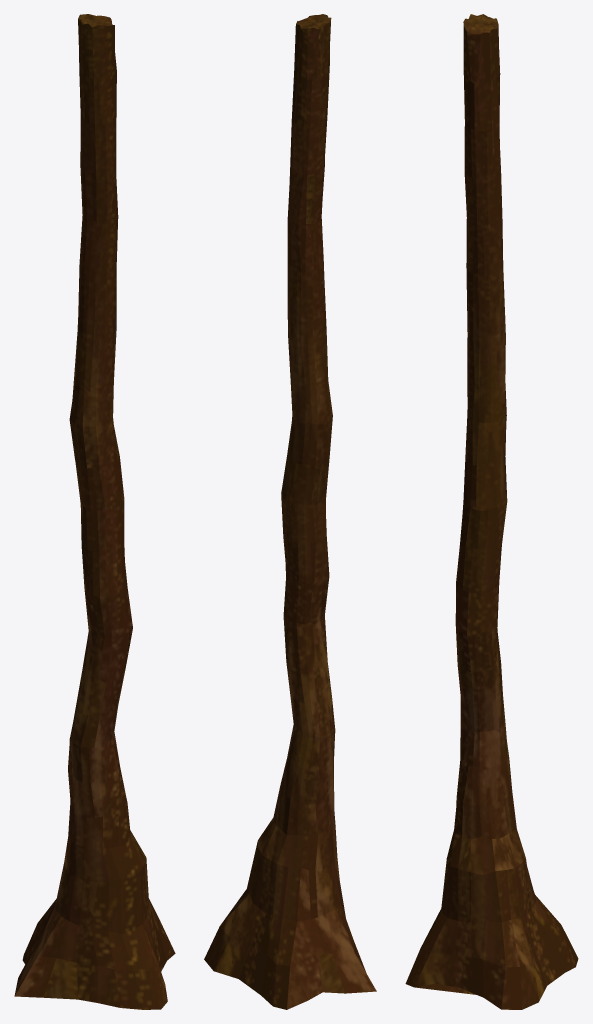
Rendered from SM_Tree3.fbx.
3 renders of one model, left to right at view 1: azimuth 30°, elevation 25°; view 2: azimuth 150°, elevation 25°; view 3: azimuth 270°, elevation 25°, orthographic. The views are drawn at different scales.
Visible parts, largest first — view 1: Cylinder.004; view 2: Cylinder.004; view 3: Cylinder.004.
Boxes of the visible parts, x1=… form: Cylinder.004: x1=14, y1=14, x2=175, y2=1009; Cylinder.004: x1=204, y1=14, x2=376, y2=1009; Cylinder.004: x1=405, y1=14, x2=578, y2=1009.
Size of the model in its own units: 256 by 1448 by 239.
